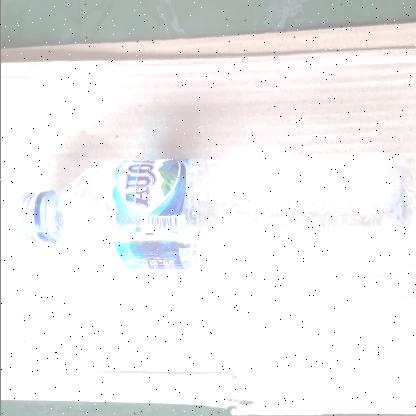Plastic Bottle: (0, 128, 416, 318)
